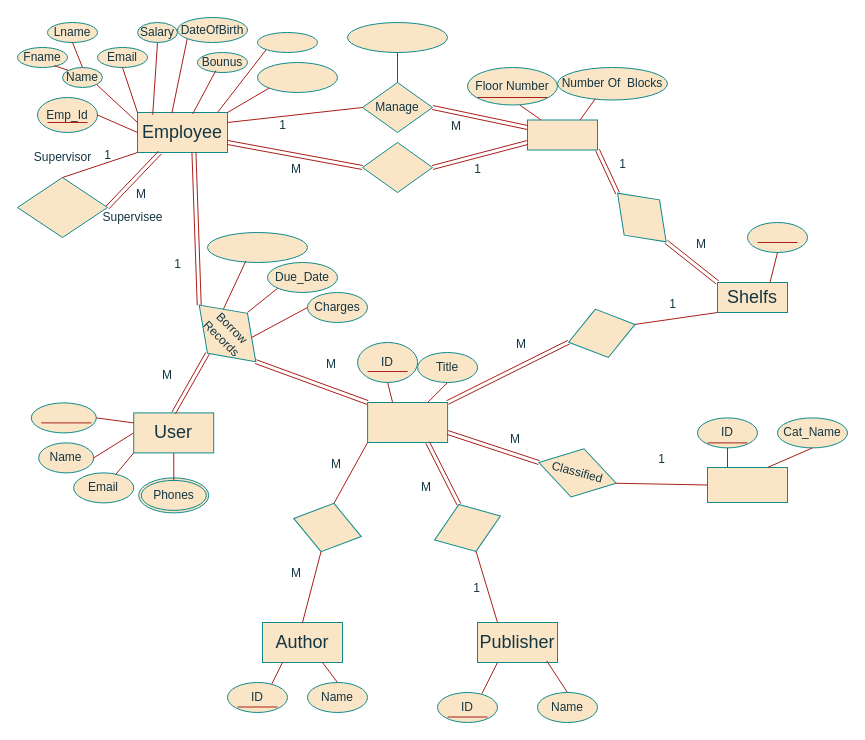
The diagram is 865 pixels wide and 740 high, and some of its shapes have lost their labels. Here are the shapes that lost their labels. From the top down, the centre of each, then its label:
At pixel 287 42: "Address".
At pixel 397 37: "Hiring Date".
At pixel 297 77: "Phone Number".
At pixel 562 134: "Floor".
At pixel 397 167: "Work On".
At pixel 62 207: "SuperVision".
At pixel 641 217: "Located".
At pixel 257 247: "Date_Borrowed".
At pixel 777 237: "Code".
At pixel 601 332: "Assigned".
At pixel 63 417: "SSN".
At pixel 407 422: "Book".
At pixel 747 484: "Category".
At pixel 327 527: "Have".
At pixel 467 527: "Puplish".
